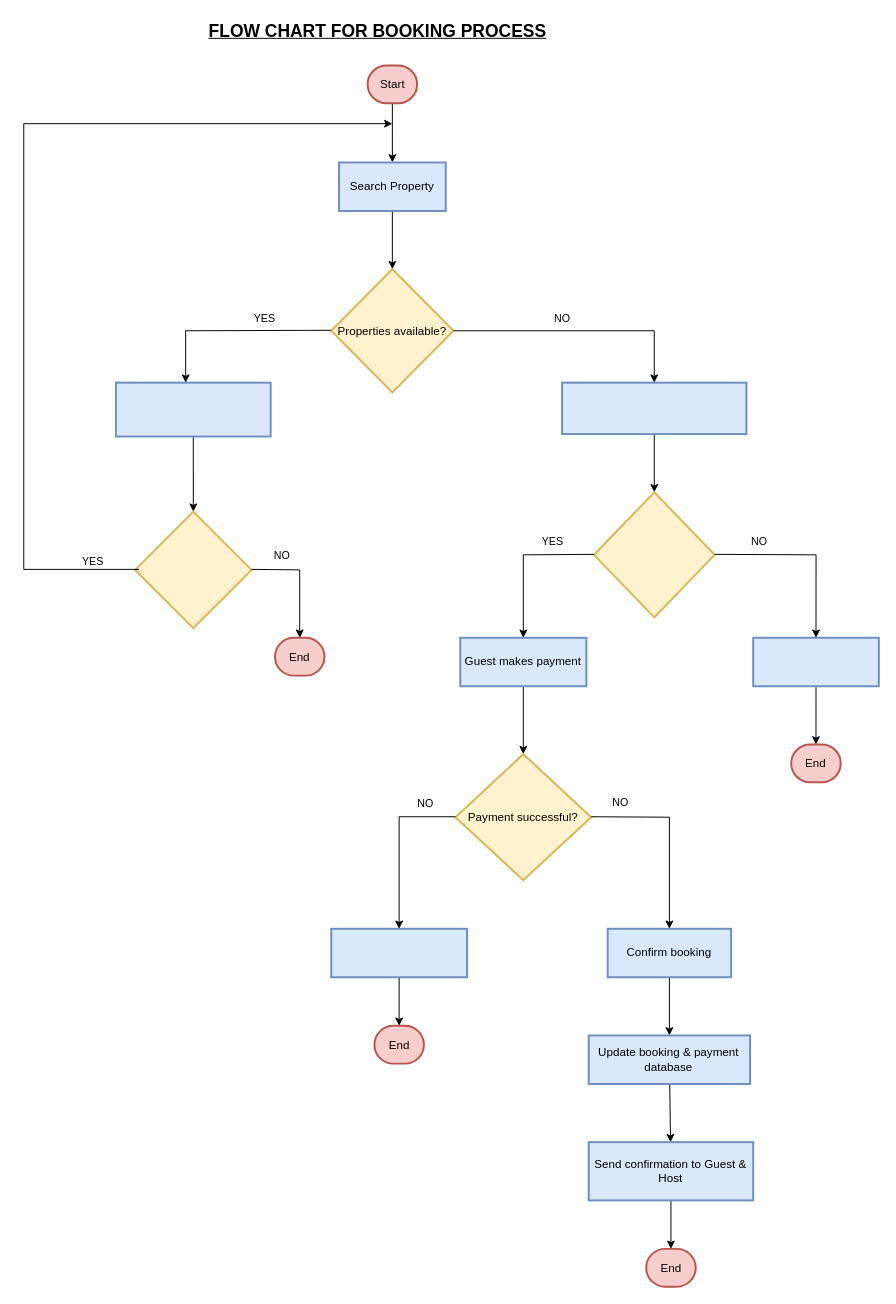
Some shapes in this 896 by 1304 pixel diagram are drawn without their labels. The shapes that lost their labels are listed below. From the top down, each one's centre as x and y in pixels, then its label:
the point at 192,409: Show No availability message
the point at 654,408: Guest selects property & initiates booking
the point at 193,569: Search another property?
the point at 653,554: Host confirms booking?
the point at 815,661: Notify guest: Booking Rejected
the point at 399,952: Notify guest: Payment Failed
